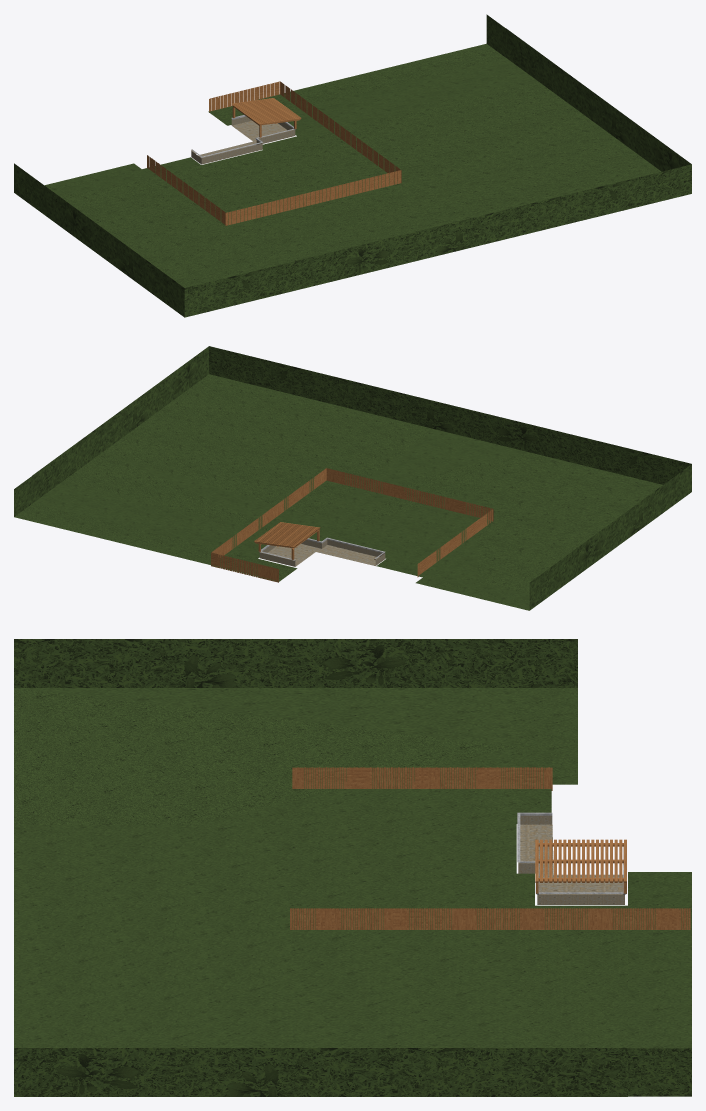
File: mdl_brush_huboutdoor.gltf
3 views of the same model, one above another, from view 1: azimuth 30°, elevation 25°; view 2: azimuth 150°, elevation 25°; view 3: azimuth 270°, elevation 25° (orthographic). The views are drawn at different scales.
Parts seen in each view (by area): view 1: Cube.007; view 2: Cube.007; view 3: Cube.007.
Boxes of the visible parts, box(x1,y1,x2,y2) form: Cube.007: box(14, 14, 691, 317); Cube.007: box(14, 346, 691, 610); Cube.007: box(14, 639, 691, 1096).
Size of the model in its own units: 156 by 9.09 by 110.
4 materials, 4 textured.
